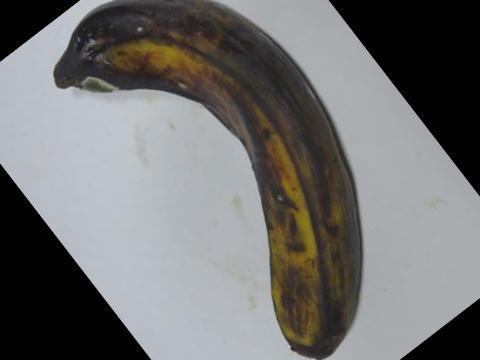rotten: (49, 2, 371, 352)
